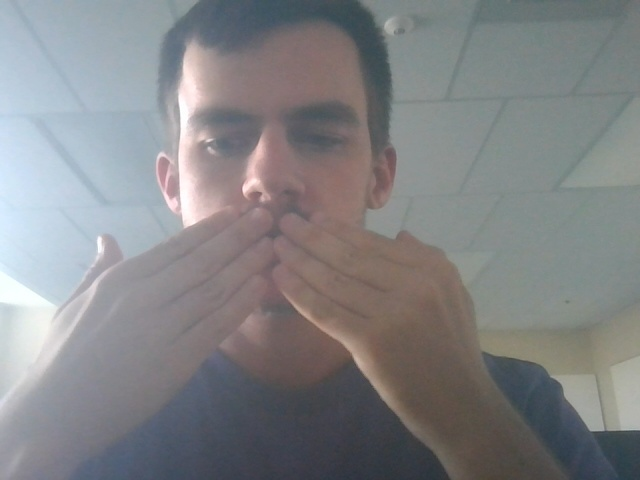thanks: (37, 189, 501, 414)
